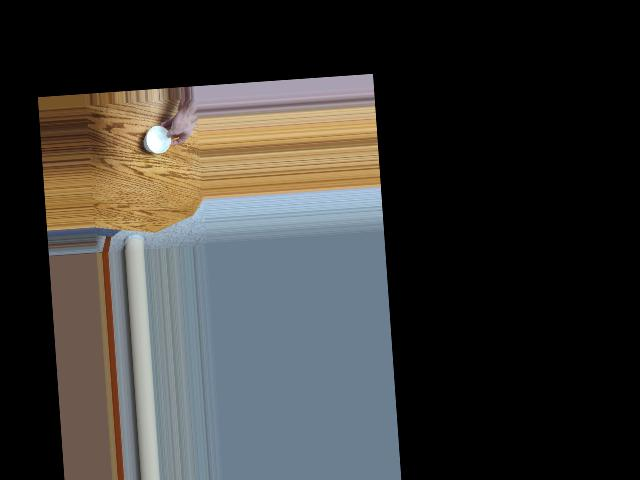cotage: (140, 125, 173, 159)
